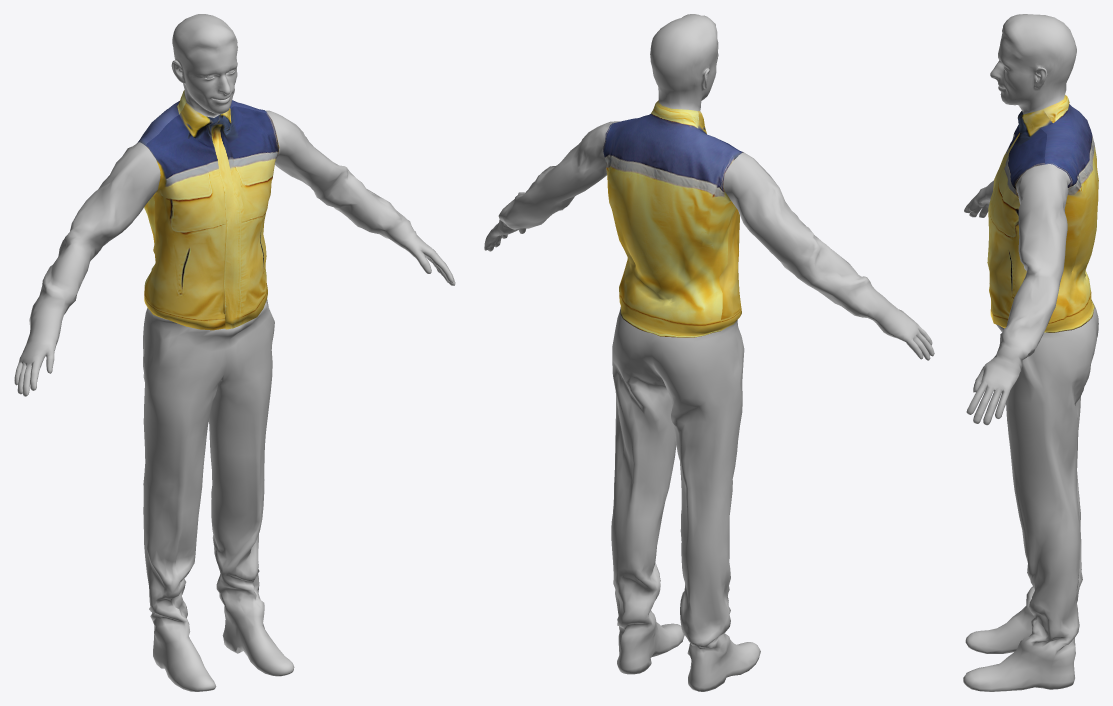
3 renders of one model, left to right at view 1: azimuth 30°, elevation 25°; view 2: azimuth 150°, elevation 25°; view 3: azimuth 270°, elevation 25°, orthographic.
Visible parts, largest first — view 1: Eric; view 2: Eric; view 3: Eric.
Boxes of the visible parts, left/top/right/bottom form: Eric: left=14, top=14, right=455, bottom=691; Eric: left=484, top=14, right=934, bottom=691; Eric: left=963, top=14, right=1098, bottom=691.
Size of the model in its own units: 131 by 185 by 35.26.
